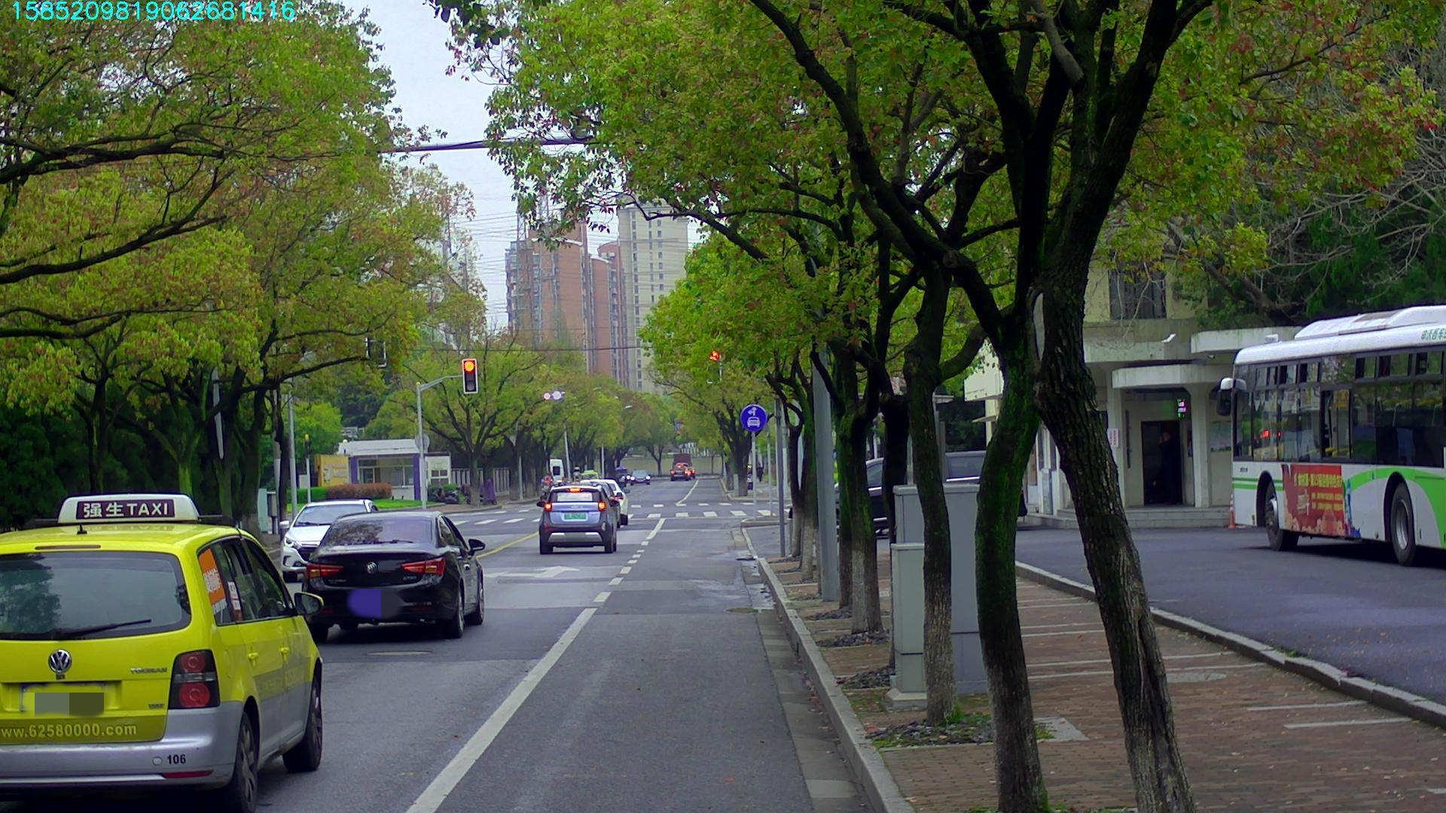red: (462, 359, 476, 392), (707, 348, 720, 382)
